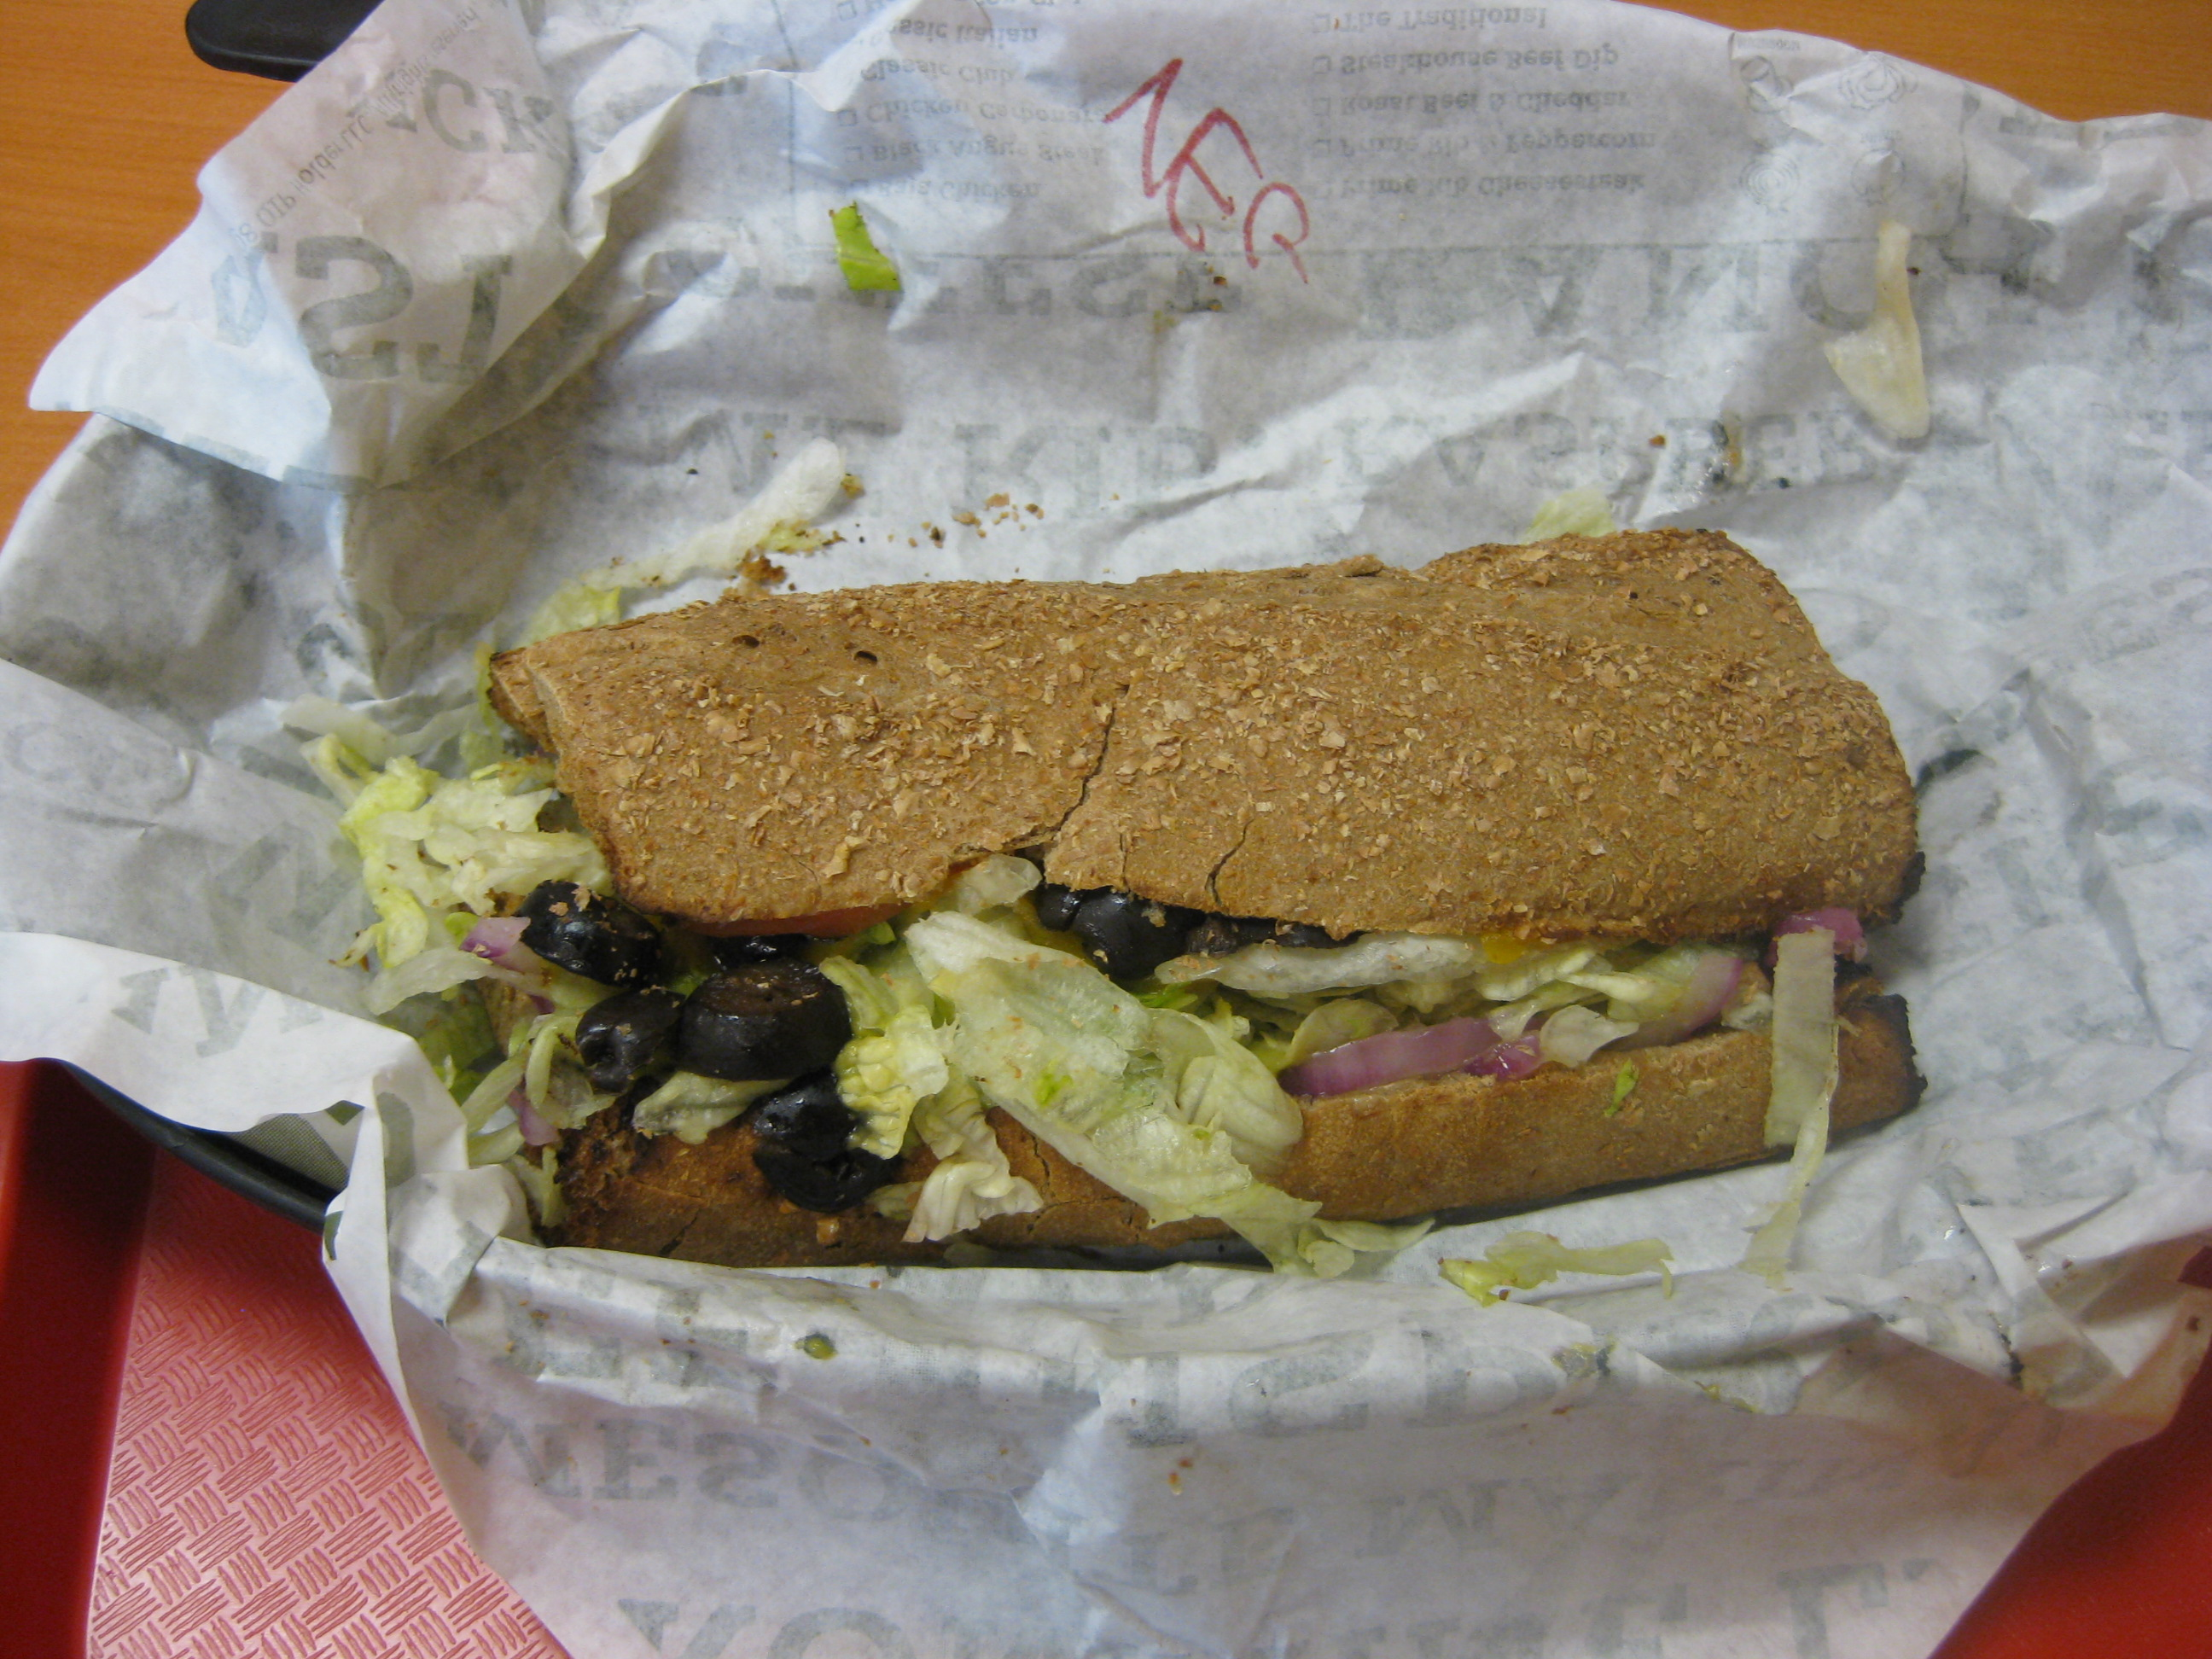sub: (353, 521, 2031, 1287)
